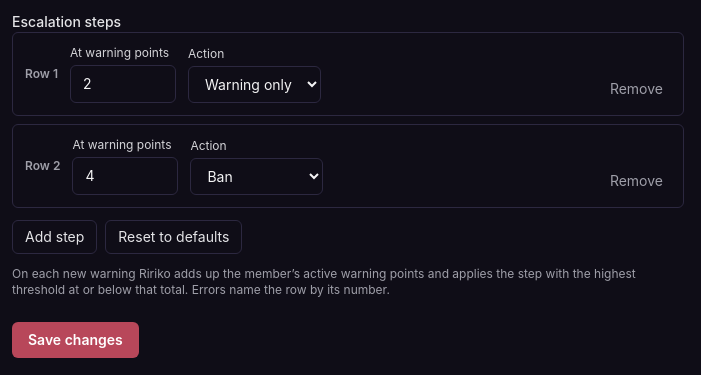
Test: EscalationStepsField rows › removes a row and shows the empty message once none are left
The image size is (701, 375).
Click the button with aria-label "Remove row 1" at (636, 89), box [602,75,671,103]
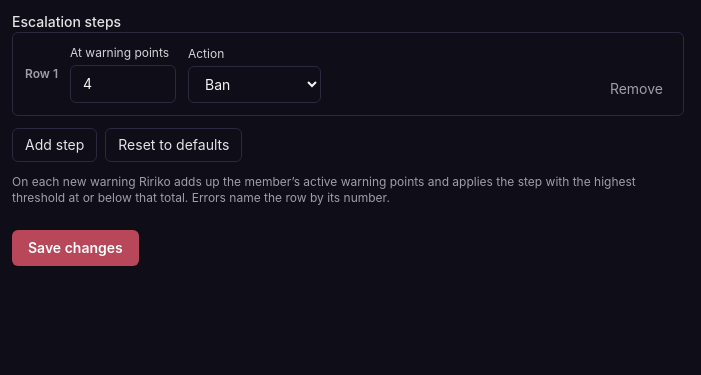
Click the button with aria-label "Remove row 1" at (636, 89), box [602,75,671,103]
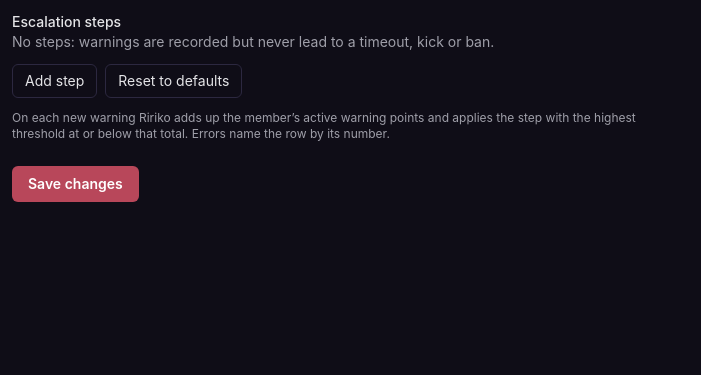
Now the text "No steps: warnings are recorded" is shown, box [12,33,494,50]
